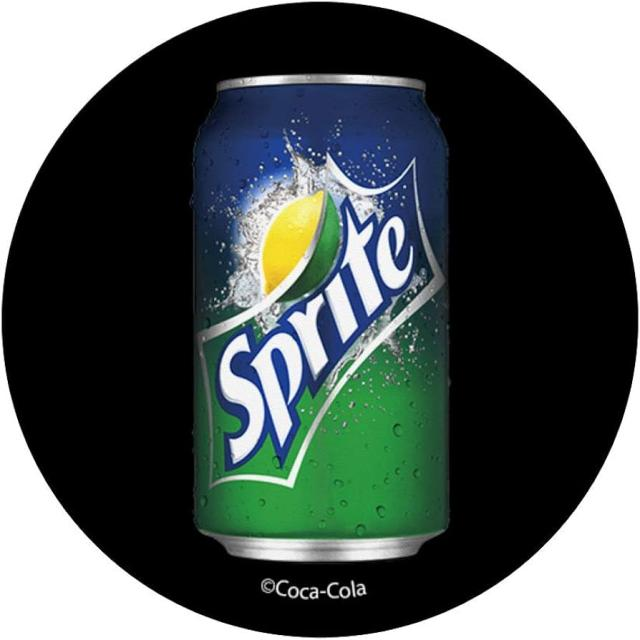sprite: (164, 62, 440, 561)
